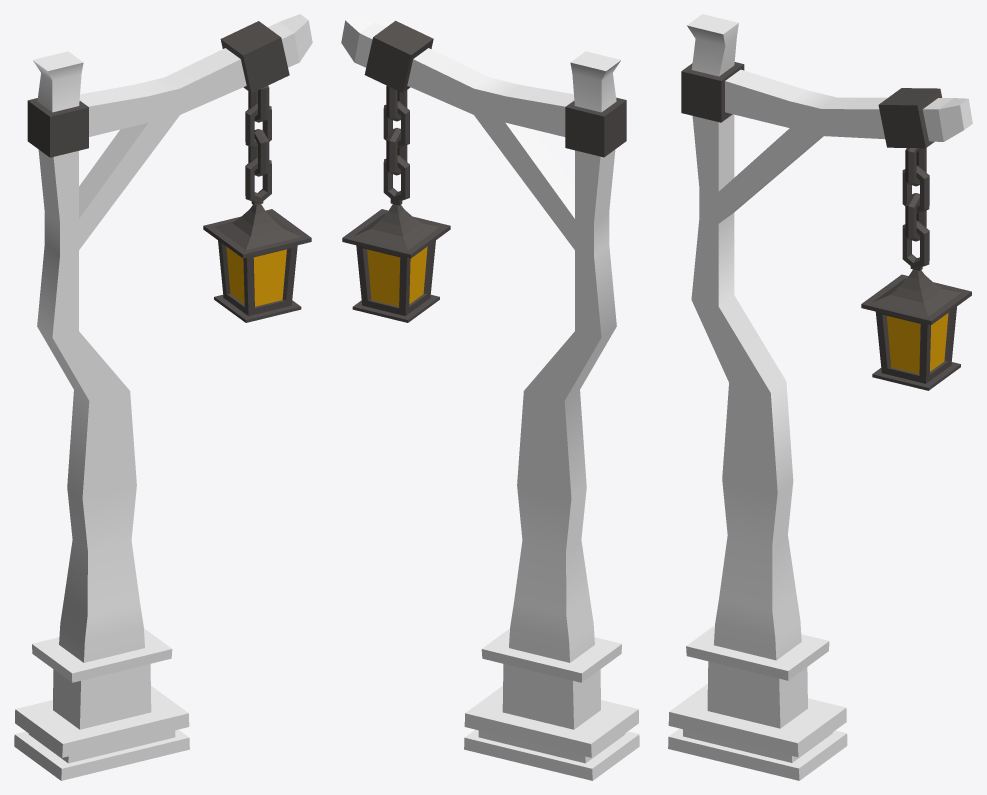
File: Poste brutalidade v1.fbx
The picture shows the model from 3 angles, left to right: view 1: azimuth 30°, elevation 25°; view 2: azimuth 150°, elevation 25°; view 3: azimuth 330°, elevation 25°; orthographic projection. The views are drawn at different scales.
Parts seen in each view (by area): view 1: polySurface14; view 2: polySurface14; view 3: polySurface14.
Part boxes in pixels (<box>): polySurface14: <box>14,14,312,780</box>; polySurface14: <box>341,14,639,780</box>; polySurface14: <box>668,14,972,780</box>.
Size of the model in its own units: 165 by 405 by 50.22.
